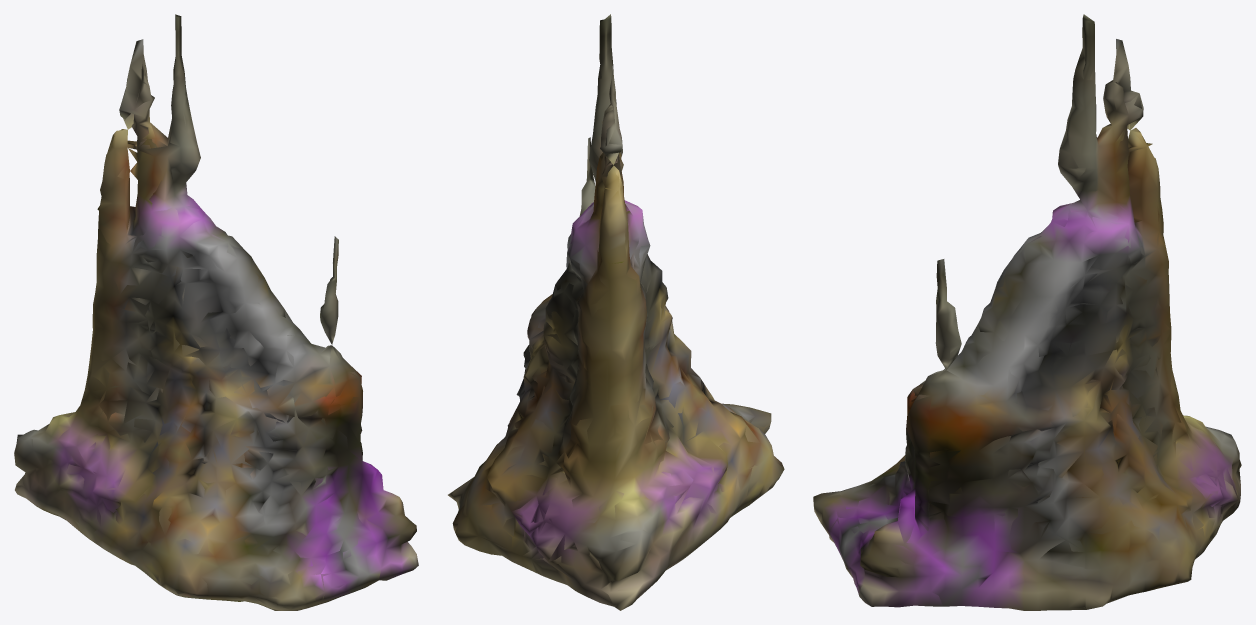
File: yuri_battle_lab.glb
3 views of the same model, side by side, from view 1: azimuth 30°, elevation 25°; view 2: azimuth 150°, elevation 25°; view 3: azimuth 270°, elevation 25° (orthographic). The views are drawn at different scales.
Visible parts, largest first — view 1: yuri_battle_lab; view 2: yuri_battle_lab; view 3: yuri_battle_lab.
Boxes of the visible parts, x1,y1,x2,y2 form: yuri_battle_lab: [14, 14, 418, 610]; yuri_battle_lab: [448, 14, 784, 610]; yuri_battle_lab: [813, 14, 1241, 610].
Bounding box in the file's own units: 0.8012 × 1.6 × 1.18.
